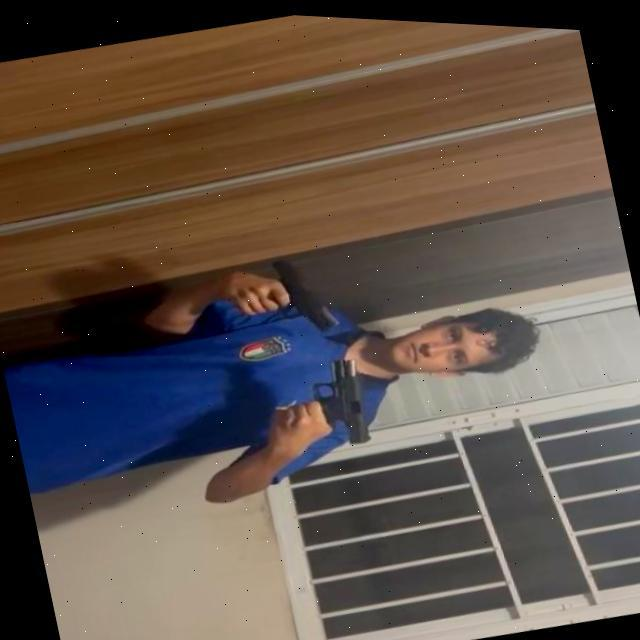gun: (308, 348, 377, 448), (270, 246, 340, 334)
